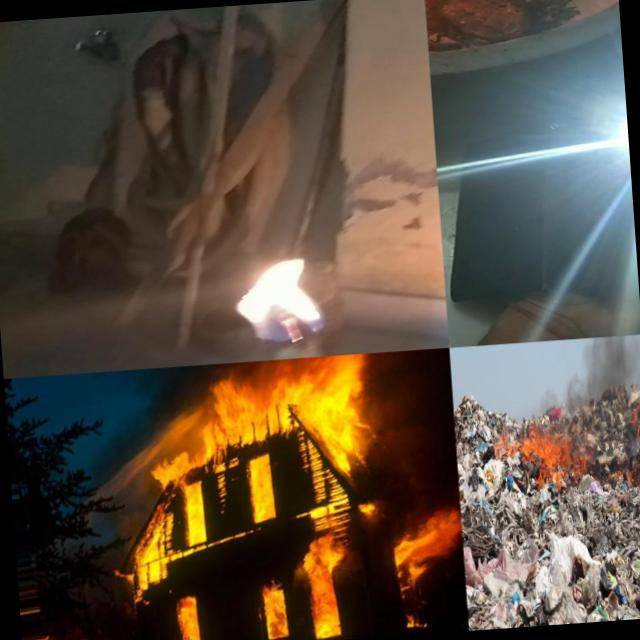fire: (146, 354, 375, 484), (200, 233, 364, 364), (296, 522, 358, 640), (110, 515, 186, 605), (390, 500, 464, 578), (518, 427, 587, 490), (255, 575, 292, 640), (178, 579, 210, 640), (630, 388, 640, 441)
smoke: (526, 335, 634, 430)
